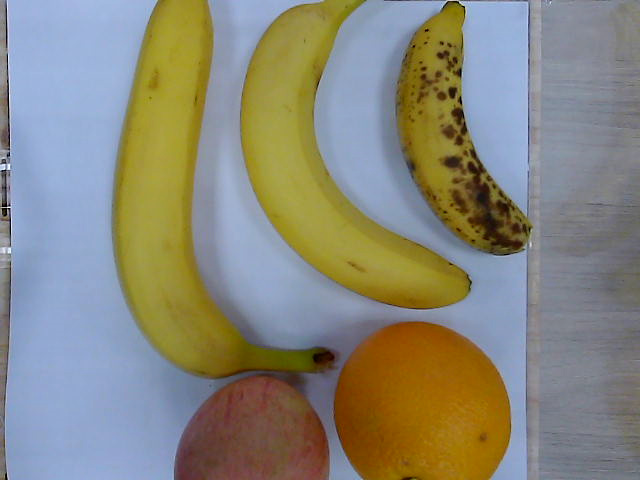fresh_apple: (173, 375, 331, 480)
fresh_banana: (239, 1, 473, 309), (113, 1, 255, 376)
fresh_orange: (332, 320, 510, 480)
rotten_banana: (395, 2, 533, 257)
